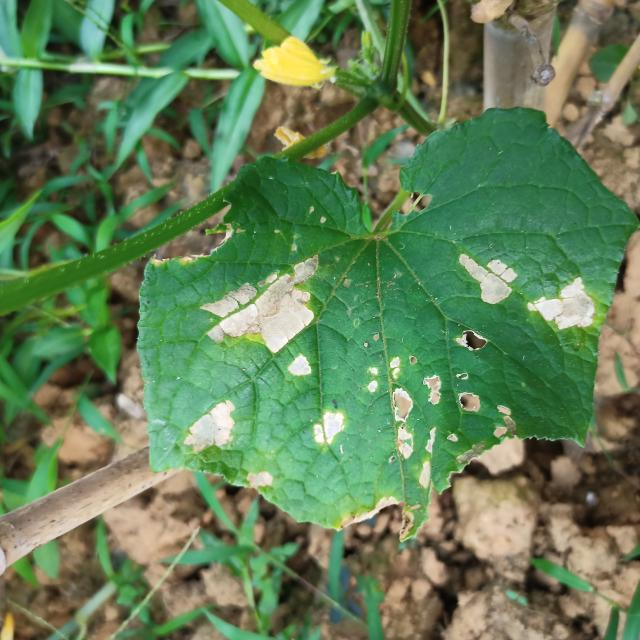disease_cucumber: (197, 254, 323, 356), (361, 352, 412, 467), (173, 394, 243, 460), (527, 273, 595, 339), (456, 248, 522, 308), (453, 328, 487, 419), (304, 404, 350, 452), (243, 464, 276, 492), (287, 350, 314, 381), (424, 371, 444, 408)
